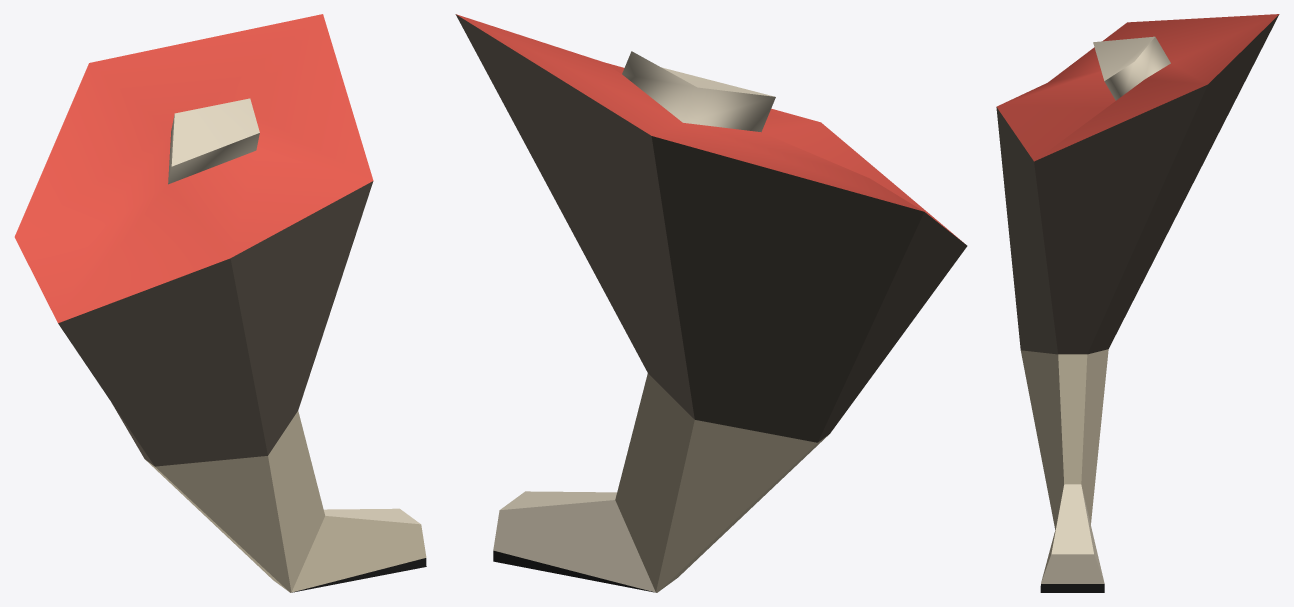
Rendered from racoon-leg-fl.glb.
3 renders of one model, left to right at view 1: azimuth 30°, elevation 25°; view 2: azimuth 150°, elevation 25°; view 3: azimuth 270°, elevation 25°, orthographic. The views are drawn at different scales.
Visible parts, largest first — view 1: FL; view 2: FL; view 3: FL.
Boxes of the visible parts, <box> form: FL: <box>14,14,426,592</box>; FL: <box>455,14,967,592</box>; FL: <box>996,14,1279,592</box>.
Bounding box in the file's own units: 0.837 × 1.08 × 0.5541.
